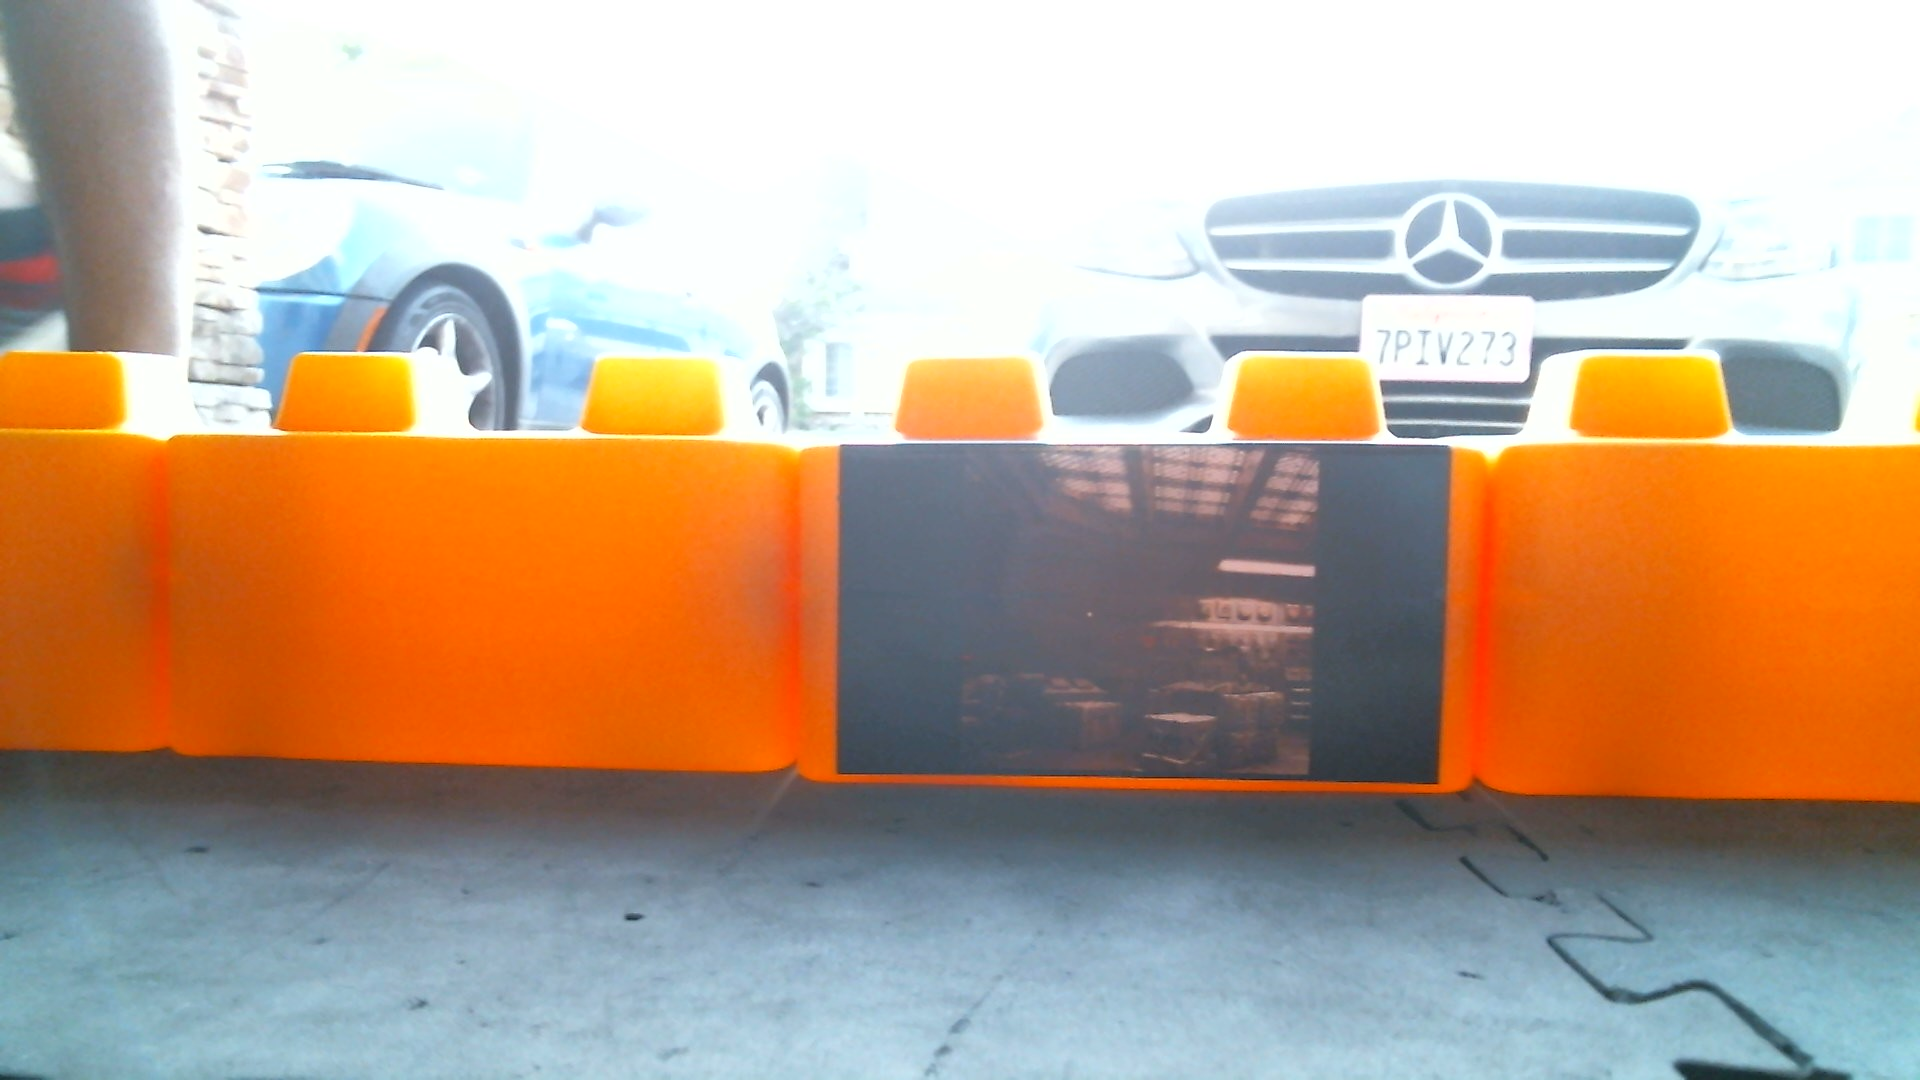center: (185, 324, 1919, 825)
